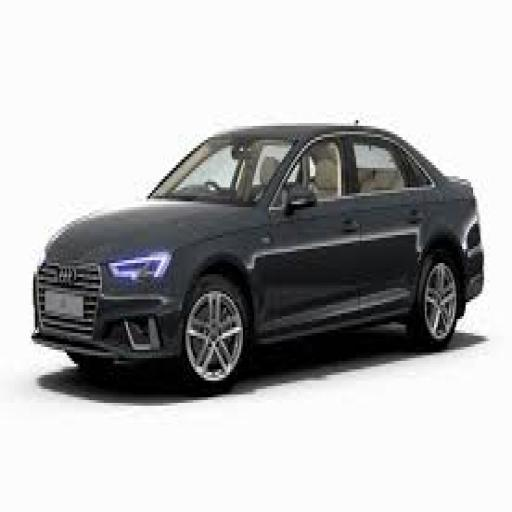car: (21, 104, 495, 407)
